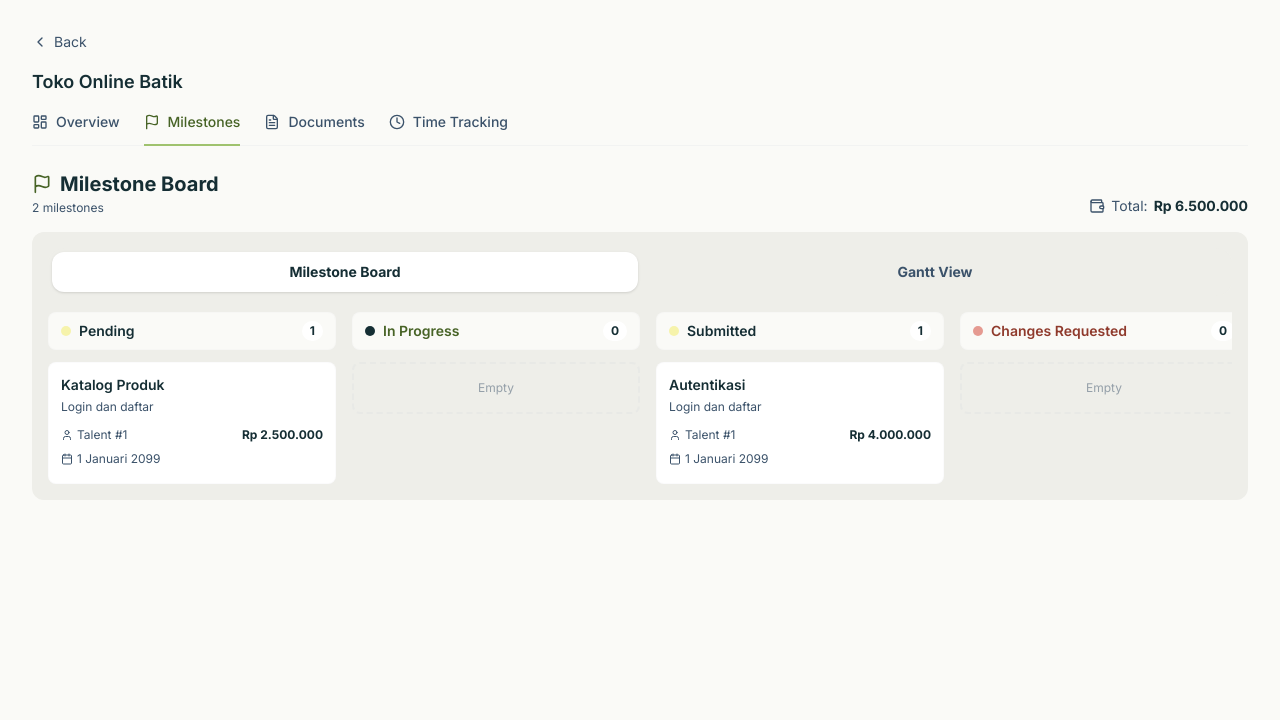
Test: approving a milestone › keeps approve shut until the board has the new status
Click the button "Autentikasi" at (707, 384), box [669,375,931,467]
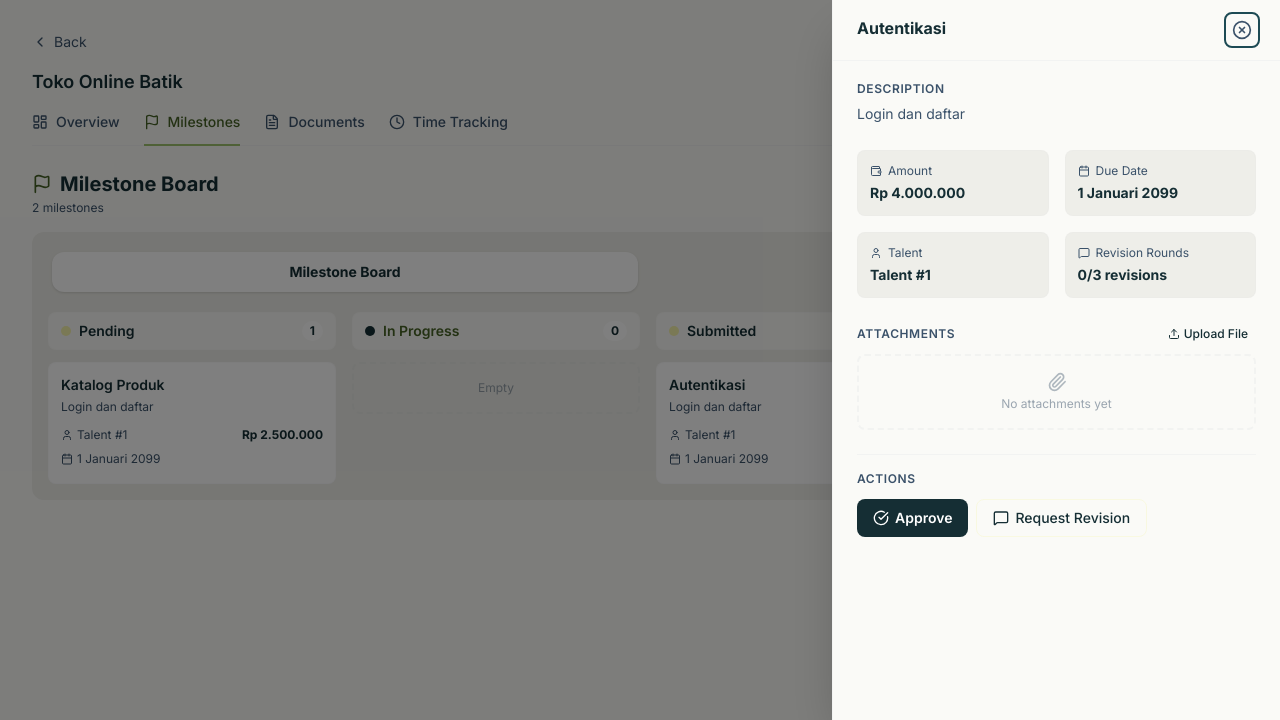
Click the button "Approve" at (913, 518), box [857,499,968,537]
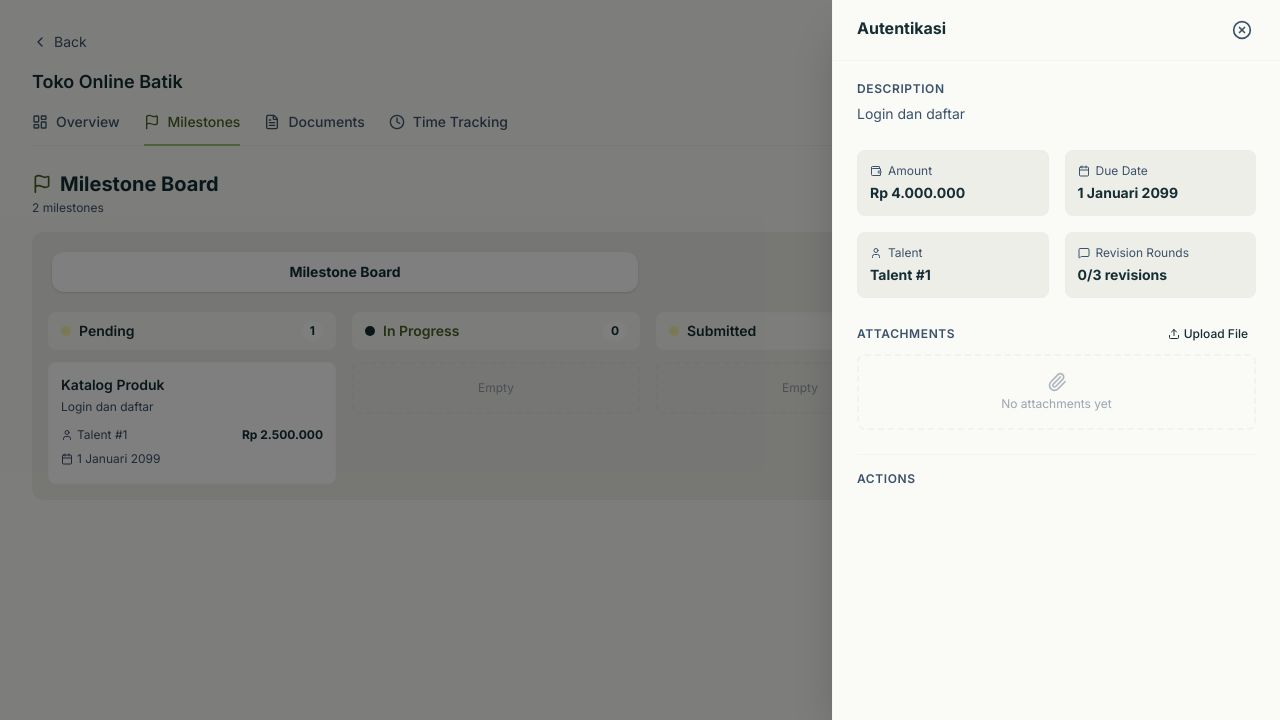
Check: the button "Approve" is gone
